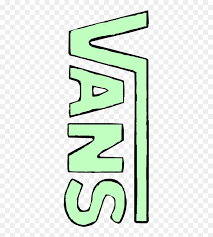vans: (64, 10, 148, 226)
